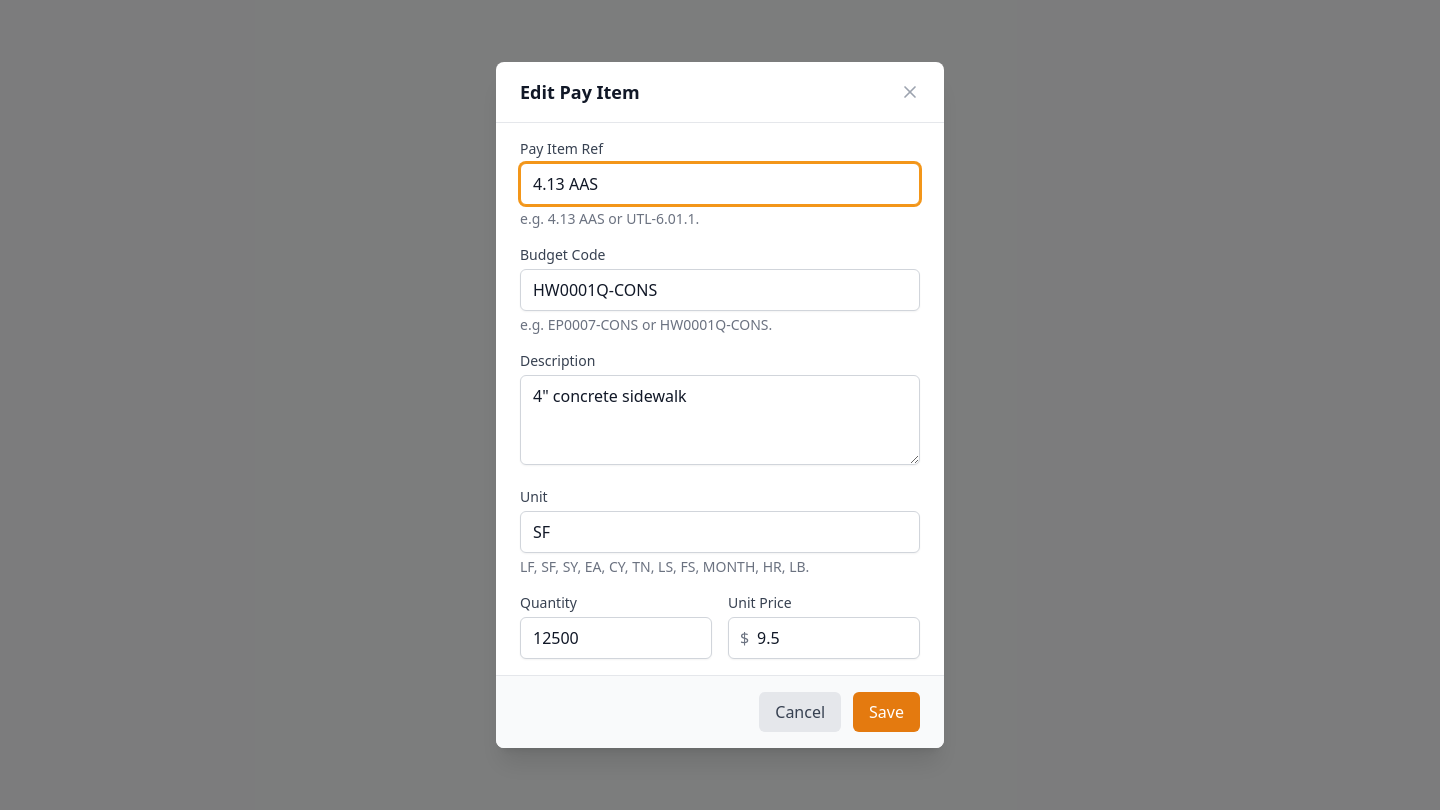
PayItemFormModal — editing › turns Save off when a field is emptied
The width and height of the screenshot is (1440, 810).
Step 1. Clear the text box labelled "Description" → (720,420), box [520,375,920,465]
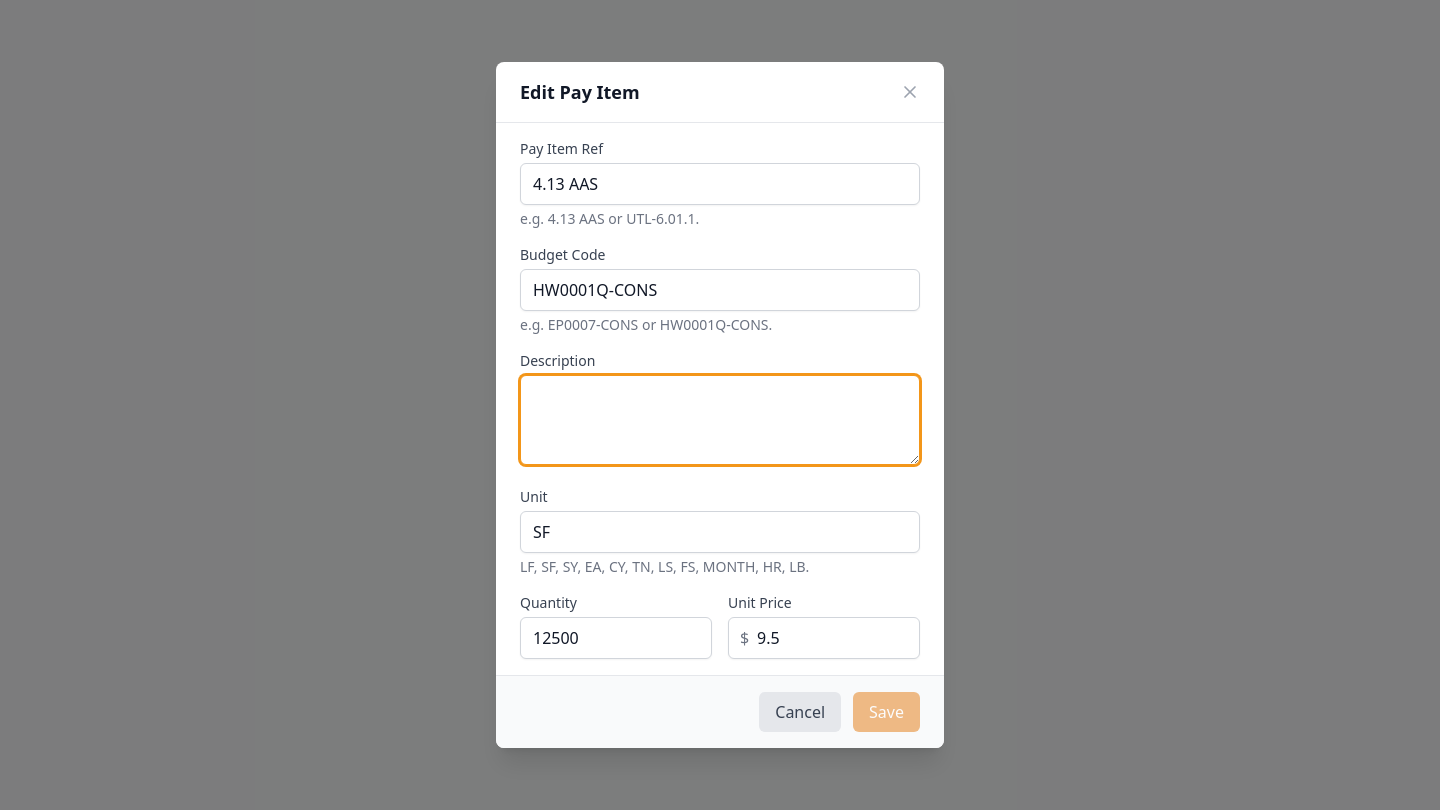
Expected: the button "Save" is disabled, [853,692,920,732]
